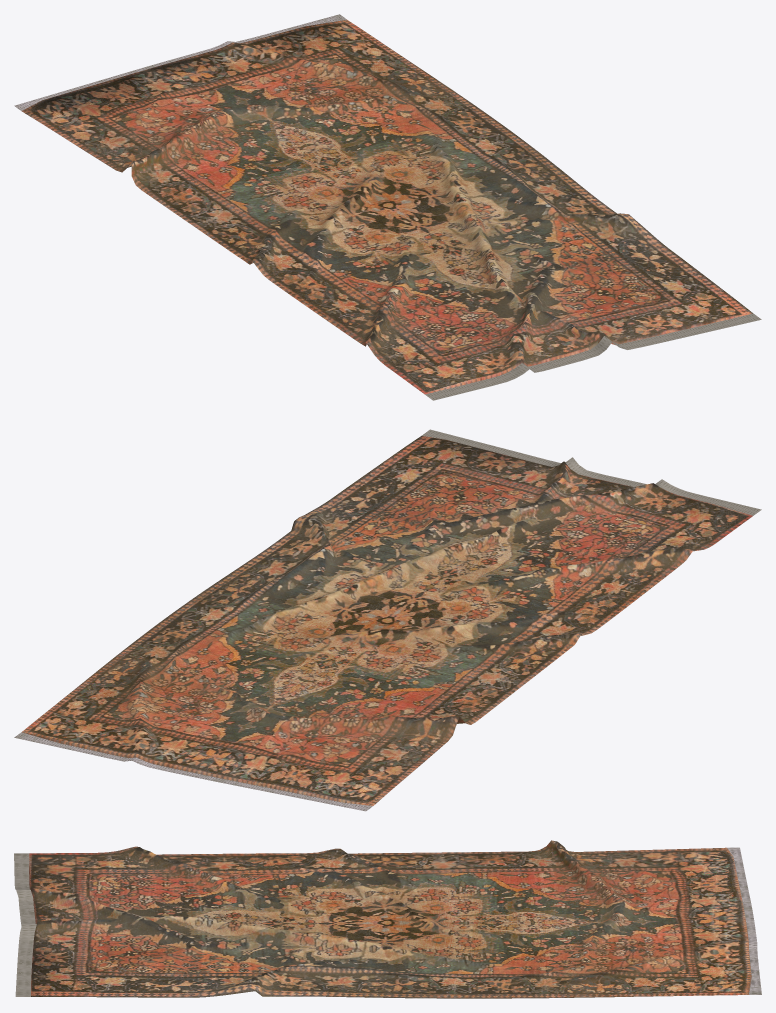
The model's file is old_persian_carpet_14_mb.glb.
3 views of the same model, one above another, from view 1: azimuth 30°, elevation 25°; view 2: azimuth 150°, elevation 25°; view 3: azimuth 270°, elevation 25° (orthographic). The views are drawn at different scales.
Parts seen in each view (by area): view 1: Old_Persian_carpet; view 2: Old_Persian_carpet; view 3: Old_Persian_carpet.
Boxes of the visible parts, box(x1,y1,x2,y2) form: Old_Persian_carpet: box(14, 14, 761, 400); Old_Persian_carpet: box(14, 429, 761, 811); Old_Persian_carpet: box(14, 840, 761, 998).
Size of the model in its own units: 3.11 by 0.153 by 6.51.
1 material, 1 textured.
